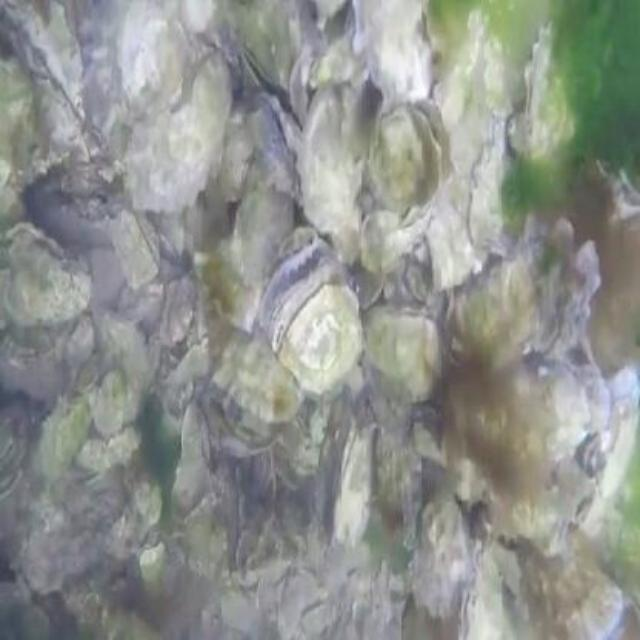Oyster-Closed: (126, 56, 231, 213), (0, 0, 87, 154), (511, 539, 623, 638), (353, 0, 433, 114), (300, 86, 362, 230), (407, 490, 471, 623), (516, 356, 592, 465), (469, 120, 526, 255), (534, 244, 601, 358), (233, 160, 295, 283), (364, 305, 442, 401), (509, 24, 555, 168), (196, 238, 262, 329), (100, 190, 159, 289), (333, 421, 373, 548), (459, 548, 511, 638), (360, 212, 403, 276), (279, 568, 317, 638), (55, 315, 94, 373), (95, 373, 126, 436), (353, 262, 385, 311), (0, 441, 27, 499), (170, 278, 195, 339), (141, 542, 166, 602), (161, 279, 183, 345), (300, 604, 334, 631), (0, 426, 16, 473), (73, 367, 97, 393)
Oyster-Open: (257, 234, 365, 395), (208, 322, 306, 444), (368, 95, 451, 213), (1, 223, 93, 326), (235, 26, 292, 116), (592, 157, 638, 216), (556, 458, 597, 524)
